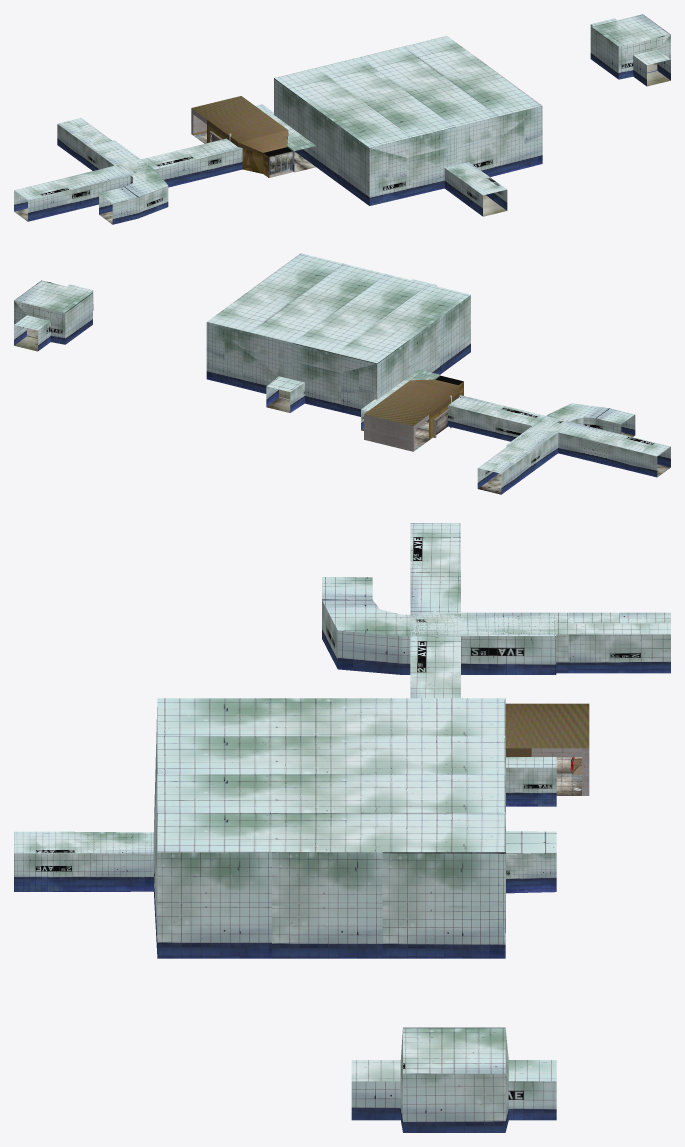
Rendered from metro big room.fbx.
3 views of the same model, one above another, from view 1: azimuth 30°, elevation 25°; view 2: azimuth 150°, elevation 25°; view 3: azimuth 270°, elevation 25° (orthographic). The views are drawn at different scales.
Parts seen in each view (by area): view 1: Big room, hallway T bone, Plane, Small room, hallway right turn, Hallway; view 2: Big room, hallway T bone, Plane, Small room, hallway right turn, Hallway; view 3: Big room, hallway T bone, Small room, hallway right turn, Plane, Hallway.
Boxes of the visible parts, left/top/right/bottom form: Big room: left=274, top=36, right=542, bottom=216; hallway T bone: left=14, top=118, right=242, bottom=221; Plane: left=191, top=96, right=292, bottom=177; Small room: left=590, top=14, right=670, bottom=86; hallway right turn: left=91, top=140, right=168, bottom=224; Hallway: left=256, top=104, right=315, bottom=172; Big room: left=206, top=253, right=470, bottom=416; hallway T bone: left=427, top=395, right=670, bottom=494; Plane: left=364, top=375, right=463, bottom=451; Small room: left=14, top=280, right=93, bottom=351; hallway right turn: left=506, top=403, right=635, bottom=450; Hallway: left=361, top=369, right=440, bottom=430; Big room: left=14, top=698, right=556, bottom=958; hallway T bone: left=410, top=523, right=670, bottom=698; Small room: left=351, top=1027, right=556, bottom=1132; hallway right turn: left=322, top=577, right=556, bottom=674; Plane: left=505, top=703, right=589, bottom=795; Hallway: left=506, top=757, right=556, bottom=806.
Size of the model in its own units: 12396 by 2364 by 25481.
